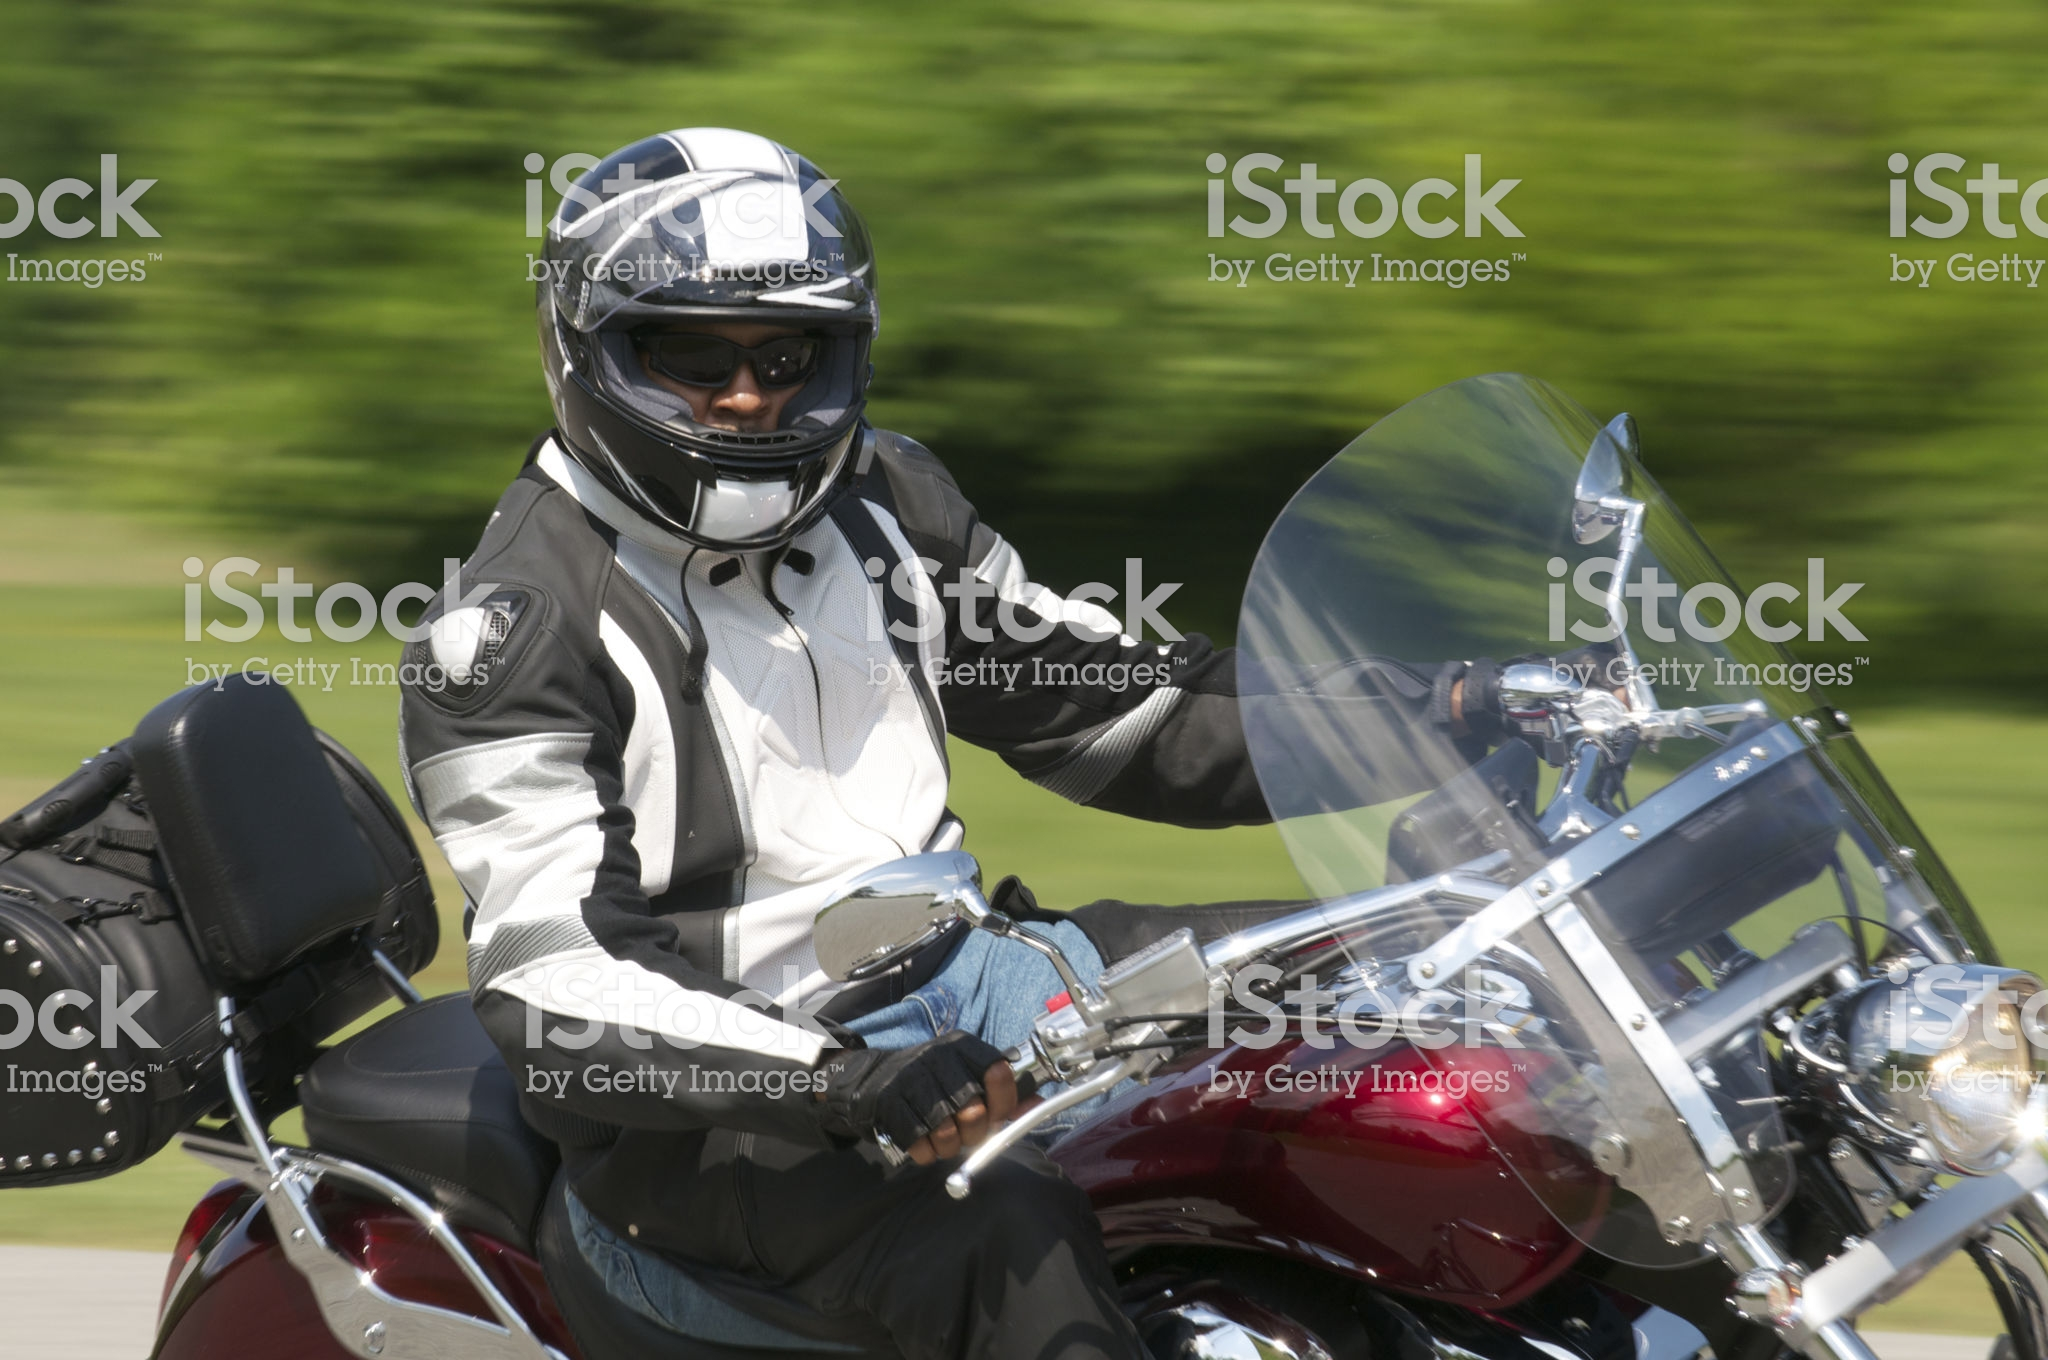helmet: (517, 120, 887, 540)
